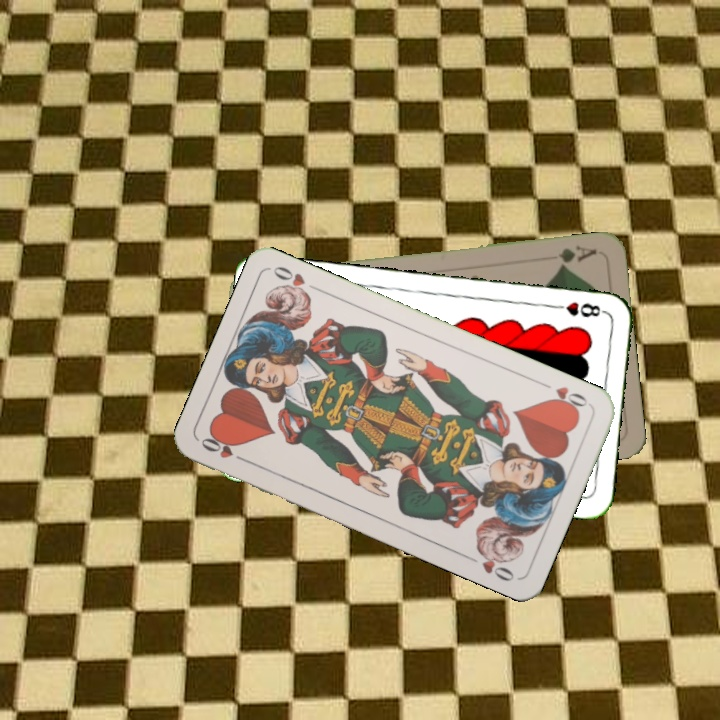GA: (555, 241, 599, 270)
H8: (548, 298, 607, 320)
HO: (536, 378, 593, 415), (197, 431, 253, 466)
